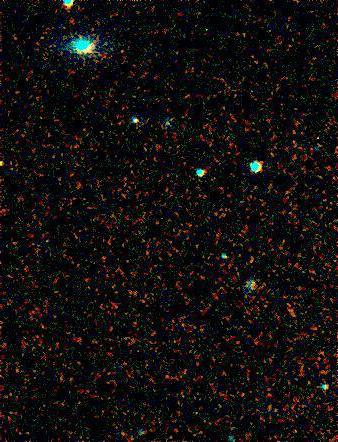star: (128, 419, 158, 442)
